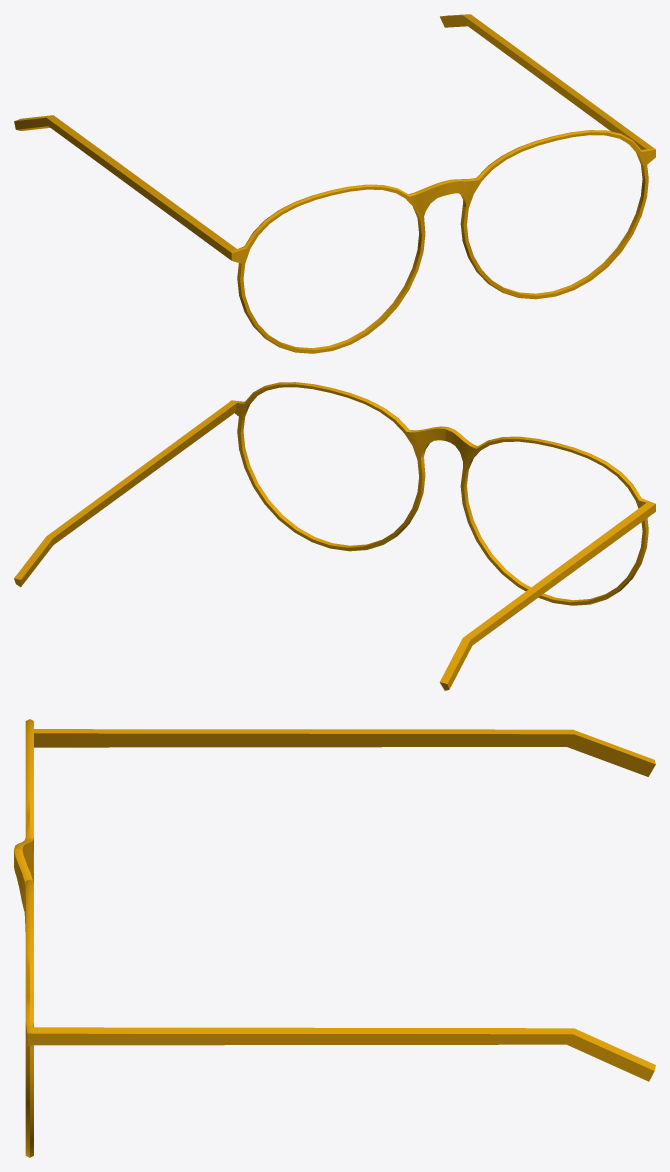
The model's file is eyewear-glasses-003-e879ba3c.glb.
3 renders of one model, top to bottom at view 1: azimuth 30°, elevation 25°; view 2: azimuth 150°, elevation 25°; view 3: azimuth 270°, elevation 25°, orthographic. The views are drawn at different scales.
Visible parts, largest first — view 1: Geo_Male_Black_Glasses.004; view 2: Geo_Male_Black_Glasses.004; view 3: Geo_Male_Black_Glasses.004.
Boxes of the visible parts, <box> form: Geo_Male_Black_Glasses.004: <box>14,14,655,353</box>; Geo_Male_Black_Glasses.004: <box>14,382,655,690</box>; Geo_Male_Black_Glasses.004: <box>14,719,655,1157</box>.
Size of the model in its own units: 1.45 by 0.5126 by 1.26.
